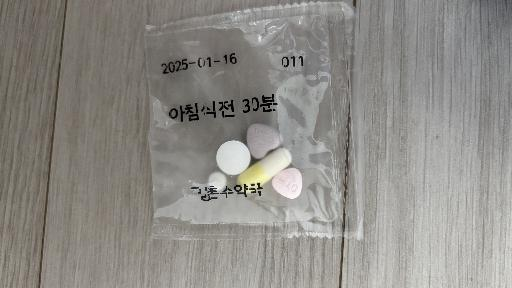vinyl: (145, 2, 364, 239)
